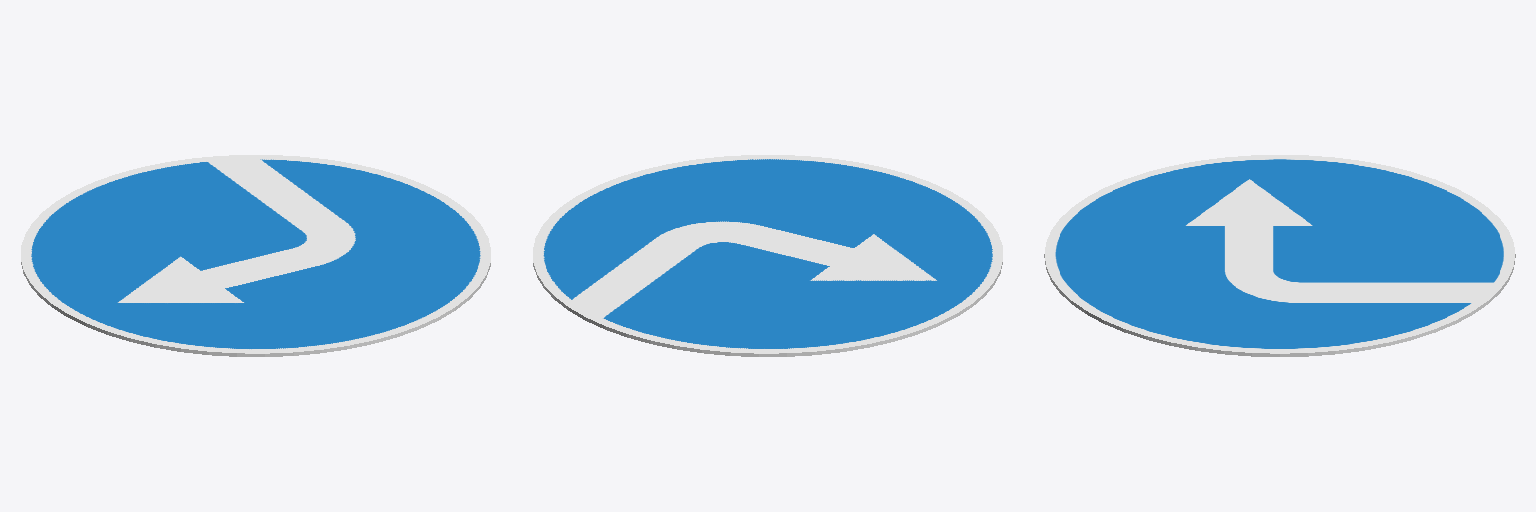
3 renders of one model, left to right at view 1: azimuth 30°, elevation 25°; view 2: azimuth 150°, elevation 25°; view 3: azimuth 270°, elevation 25°, orthographic.
Visible parts, largest first — view 1: Cylinder.1; view 2: Cylinder.1; view 3: Cylinder.1.
Part boxes in pixels (left/top/right/bottom): Cylinder.1: left=21, top=155, right=490, bottom=356; Cylinder.1: left=533, top=155, right=1002, bottom=356; Cylinder.1: left=1044, top=155, right=1515, bottom=356.
Bounding box in the file's own units: 120 × 1 × 120.
1 materials, 1 textured.